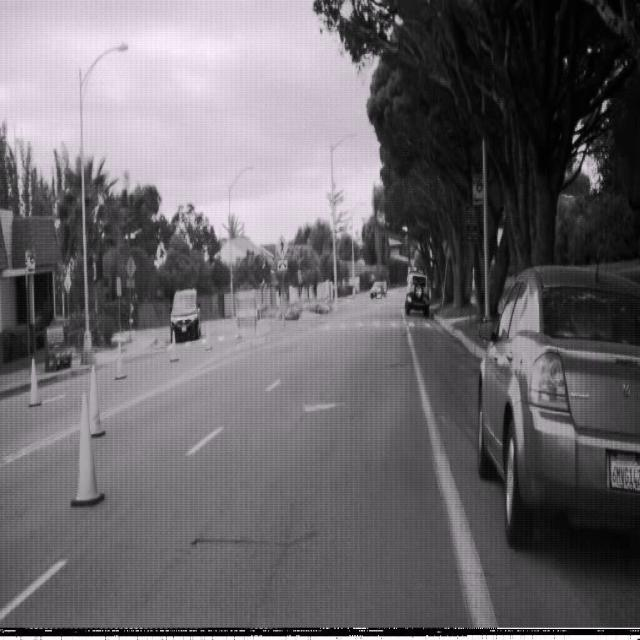pedestrianCrossing: (274, 233, 289, 261)
